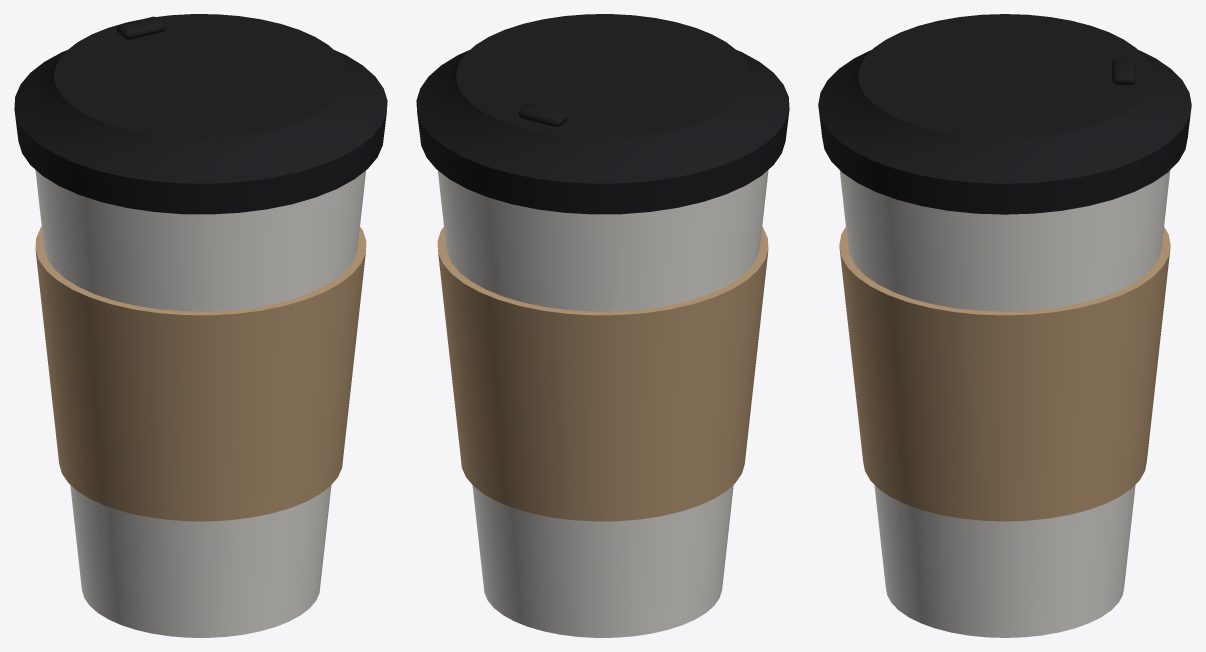
Rendered from food_coffee.glb.
3 views of the same model, side by side, from view 1: azimuth 30°, elevation 25°; view 2: azimuth 150°, elevation 25°; view 3: azimuth 270°, elevation 25° (orthographic).
Visible parts, largest first — view 1: Sleeve_LOD0, Lid_LOD0, Cup_LOD0, Sip_LOD0; view 2: Sleeve_LOD0, Lid_LOD0, Cup_LOD0, Sip_LOD0; view 3: Sleeve_LOD0, Lid_LOD0, Cup_LOD0, Sip_LOD0.
Part boxes in pixels (x1,y1,x2,y2): Sleeve_LOD0: (35, 227, 366, 521); Lid_LOD0: (14, 14, 387, 214); Cup_LOD0: (35, 170, 365, 637); Sip_LOD0: (116, 16, 165, 39); Sleeve_LOD0: (437, 227, 768, 521); Lid_LOD0: (416, 14, 789, 214); Cup_LOD0: (438, 170, 768, 637); Sip_LOD0: (518, 104, 567, 126); Sleeve_LOD0: (839, 227, 1170, 521); Lid_LOD0: (818, 14, 1191, 214); Cup_LOD0: (839, 170, 1170, 637); Sip_LOD0: (1112, 59, 1135, 84).
Size of the model in its own units: 0.094 by 0.1445 by 0.094.
